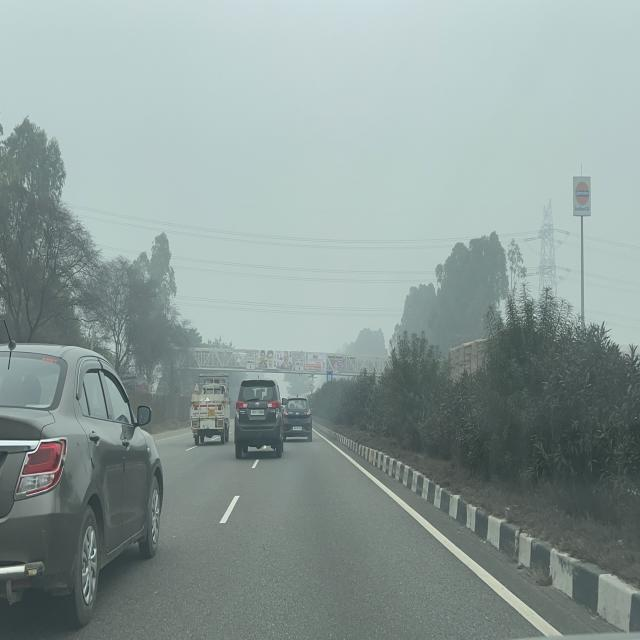INFORMATION: (327, 372, 332, 384)
